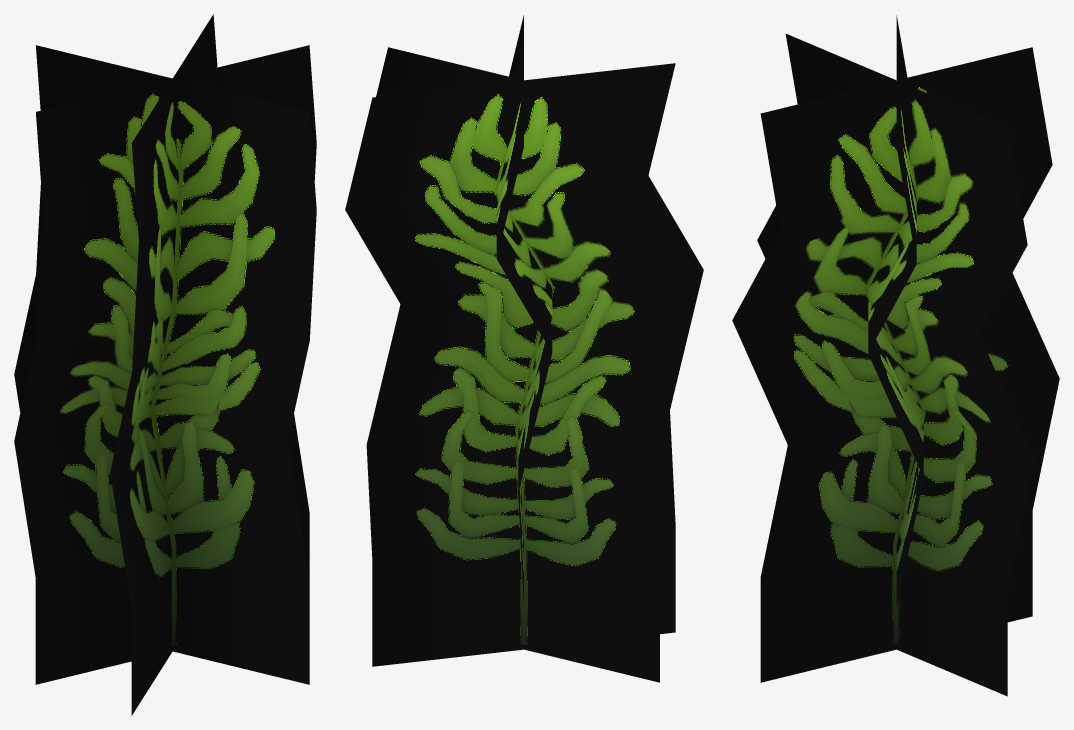
File: trp_weed1.glb
3 views of the same model, side by side, from view 1: azimuth 30°, elevation 25°; view 2: azimuth 150°, elevation 25°; view 3: azimuth 270°, elevation 25° (orthographic).
Parts seen in each view (by area): view 1: SM_Env_Seaweed_01_LOD0; view 2: SM_Env_Seaweed_01_LOD0; view 3: SM_Env_Seaweed_01_LOD0.
Part boxes in pixels (left/top/right/bottom): SM_Env_Seaweed_01_LOD0: left=14, top=14, right=316, bottom=715; SM_Env_Seaweed_01_LOD0: left=345, top=15, right=703, bottom=682; SM_Env_Seaweed_01_LOD0: left=732, top=15, right=1059, bottom=696.
Size of what is drawn, in the model's own units: 1.23 by 2.2 by 1.15.
Materials: 1 (1 with a texture image).
